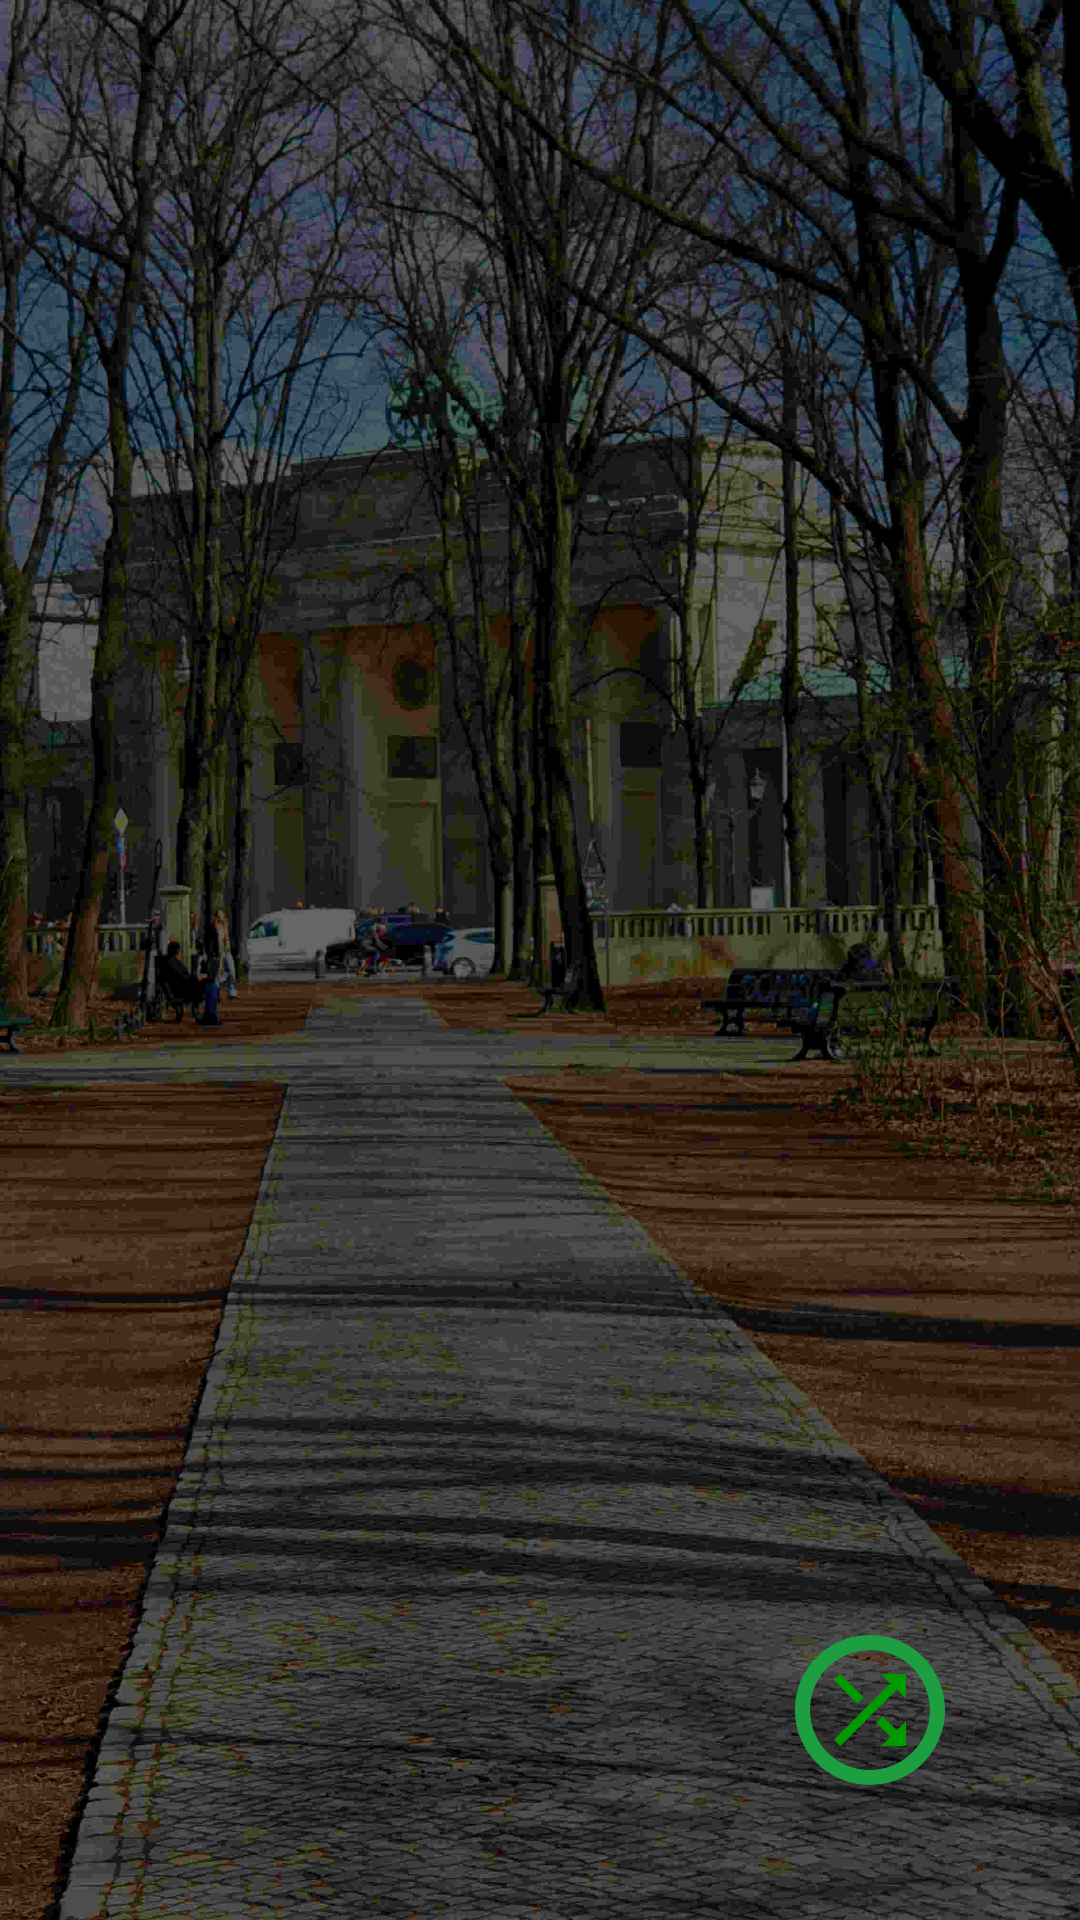

Named icons in this screenshot (1080 × 1920) and their bounding boxes, (x1=x1, y1=y1, x2=x2, y2=y2):
Alles Zufällig Abspielen: (x1=780, y1=1620, x2=960, y2=1800)
